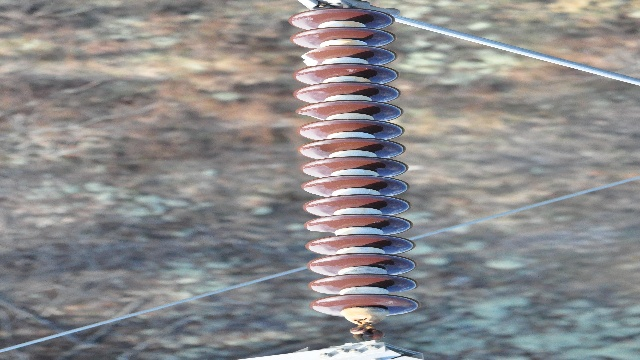broken_local: (304, 225, 354, 236), (292, 108, 328, 121)
insulator_unspecified: (284, 7, 421, 314)
